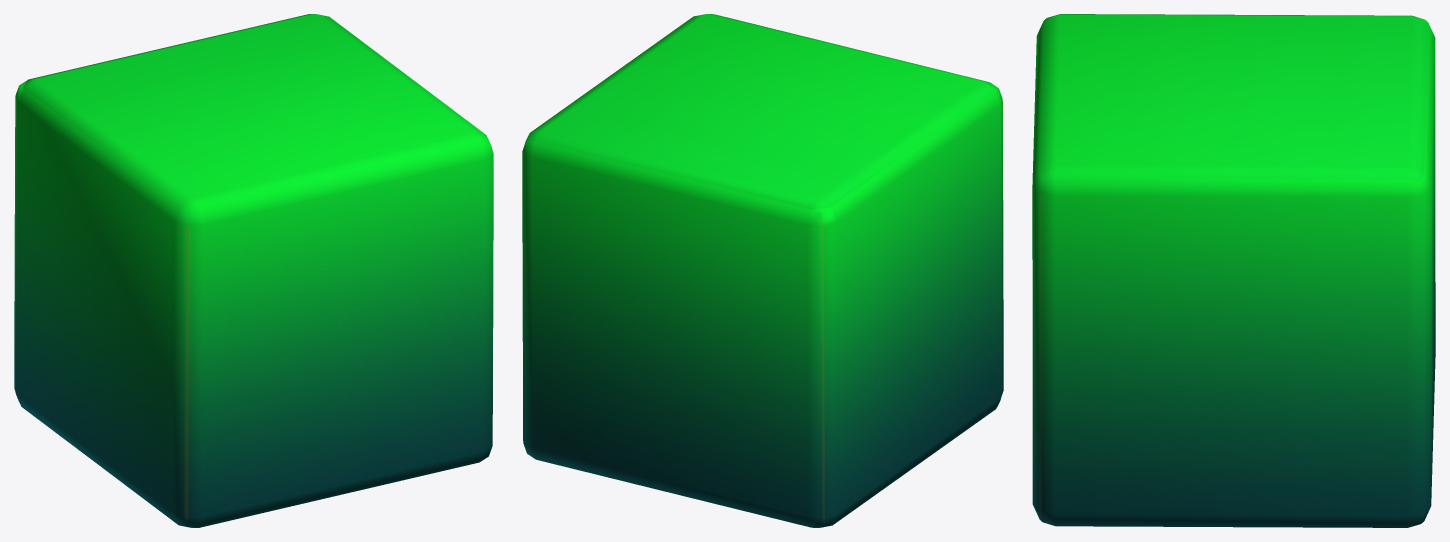
File: TreeRoundCube.fbx
3 renders of one model, left to right at view 1: azimuth 30°, elevation 25°; view 2: azimuth 150°, elevation 25°; view 3: azimuth 270°, elevation 25°, orthographic. The views are drawn at different scales.
Visible parts, largest first — view 1: Tree2_1.002; view 2: Tree2_1.002; view 3: Tree2_1.002.
Boxes of the visible parts, bbox=[...] form: Tree2_1.002: bbox=[14, 14, 493, 527]; Tree2_1.002: bbox=[522, 14, 1003, 527]; Tree2_1.002: bbox=[1032, 14, 1435, 527].
Bounding box in the file's own units: 0.9231 × 0.9137 × 0.9204.
